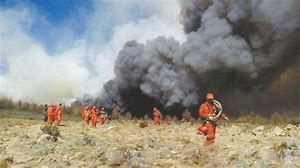smoke: (84, 1, 300, 108)
